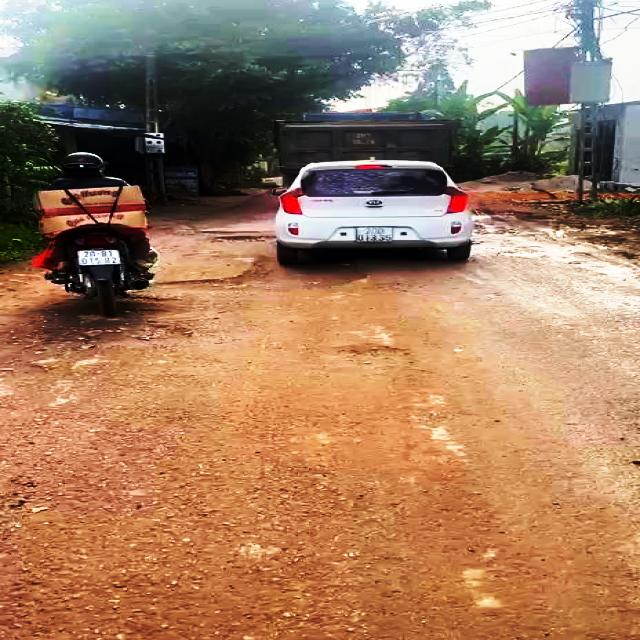pothole: (137, 264, 371, 294), (94, 322, 190, 348), (338, 339, 401, 366), (212, 231, 278, 246)
